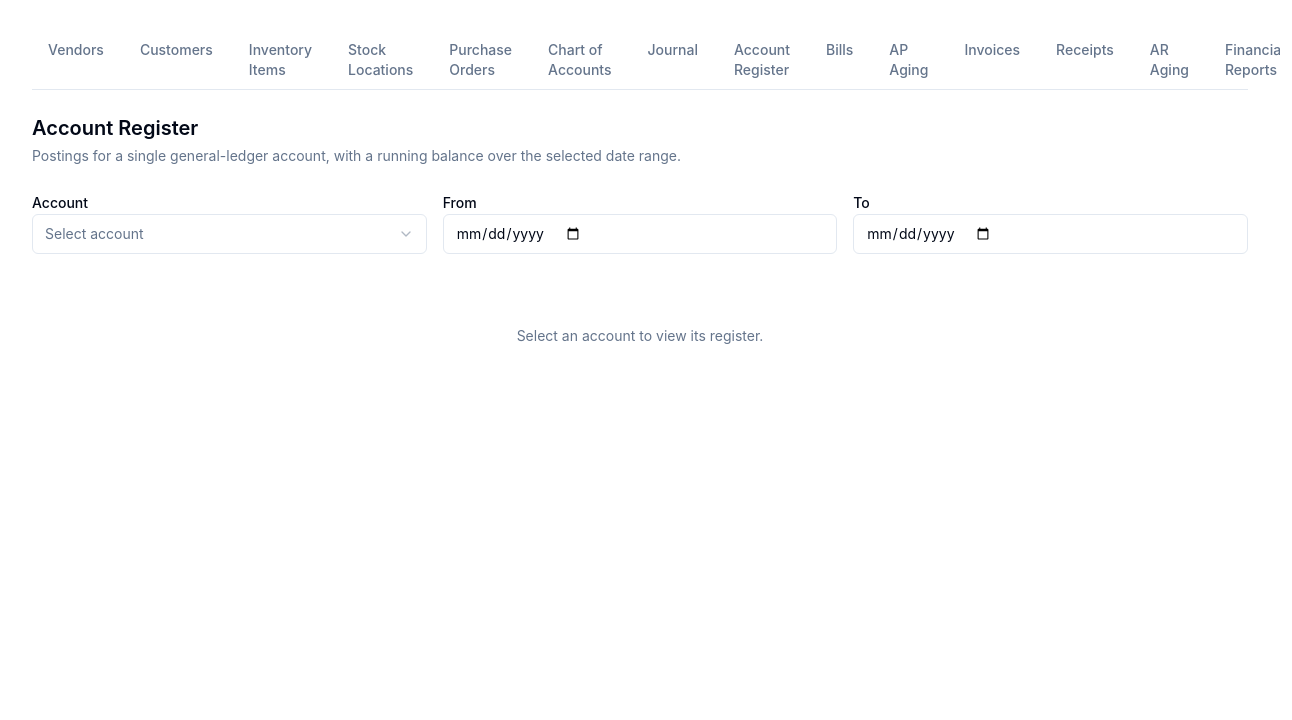
Test: AccountRegister screen › renders posting rows with a running balance once an account is selected
Expected: the text "Select an account to view its register." is shown, [517,327,763,344]
What coordinates should you click on to do the following:
click the dropdown labelled "account"
I would click on:
 (94, 234)
Its box is [32,214,427,254].
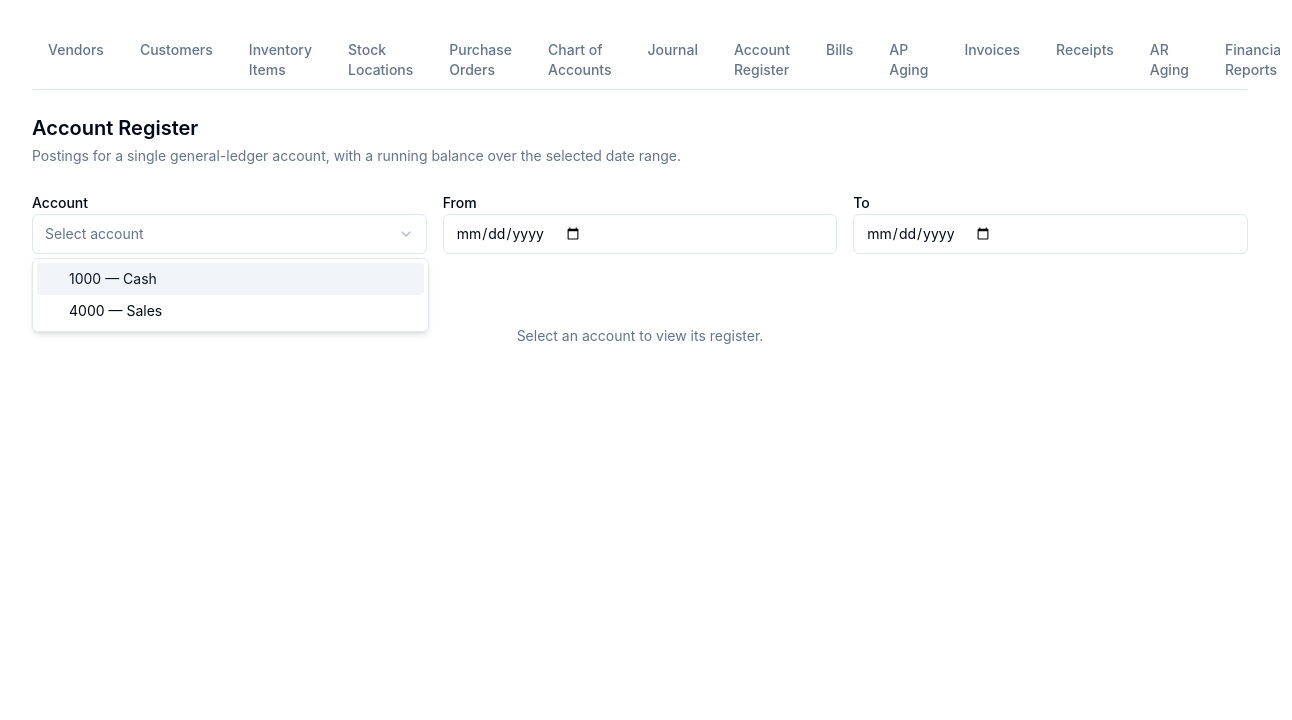
What coordinates should you click on to do the following:
click the option "1000 — Cash"
I would click on:
 (85, 278)
Its box is [37,263,424,295].
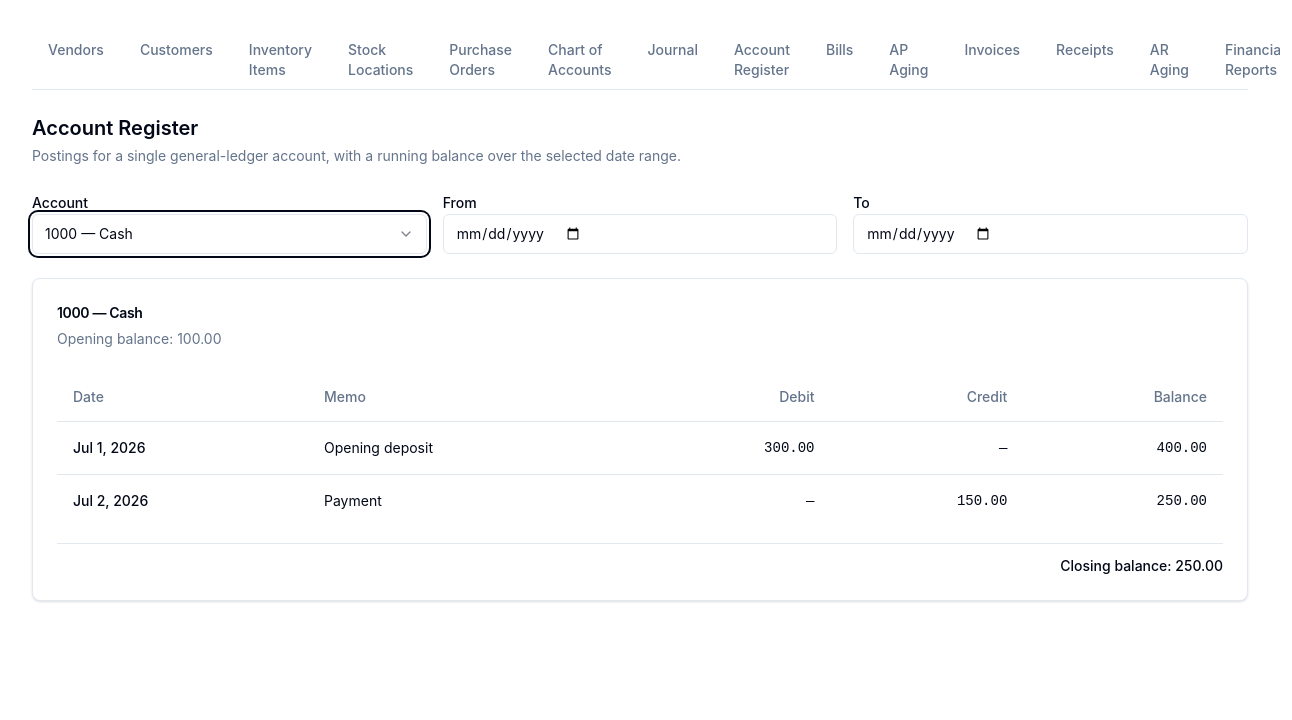
Now the text "Opening deposit" is shown, box [308,421,638,474]
Now the text "Payment" is shown, box [308,474,638,526]
Now the text "400.00" is shown, box [1023,421,1223,474]
